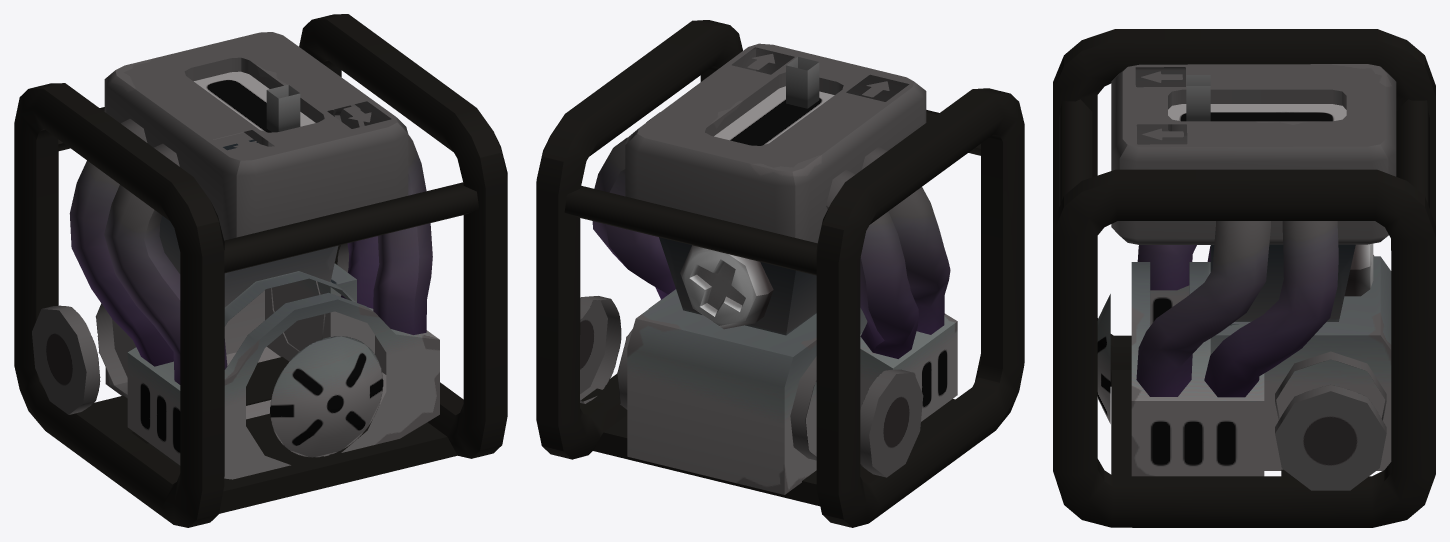
File: obj_interactive_gasengine_01_on.fbx
3 views of the same model, side by side, from view 1: azimuth 30°, elevation 25°; view 2: azimuth 150°, elevation 25°; view 3: azimuth 270°, elevation 25° (orthographic). The views are drawn at different scales.
Parts seen in each view (by area): view 1: obj_interactive_gasengine_01_on; view 2: obj_interactive_gasengine_01_on; view 3: obj_interactive_gasengine_01_on.
Part boxes in pixels (left/top/right/bottom): obj_interactive_gasengine_01_on: left=14, top=14, right=507, bottom=527; obj_interactive_gasengine_01_on: left=536, top=20, right=1024, bottom=527; obj_interactive_gasengine_01_on: left=1053, top=29, right=1435, bottom=527.
Size of the model in its own units: 2.05 by 2.4 by 2.04.
